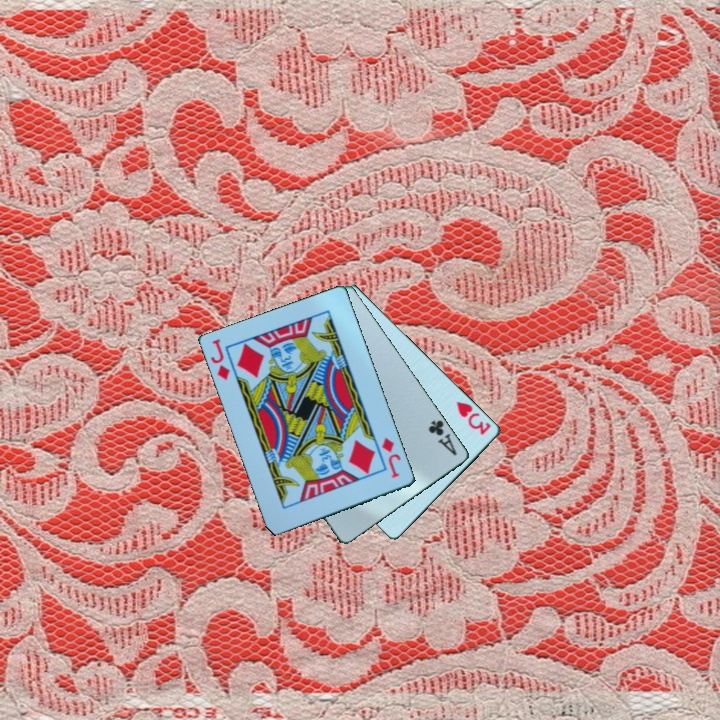3h: (453, 398, 494, 438)
Ac: (425, 416, 460, 459)
Jd: (207, 335, 234, 383), (379, 434, 404, 481)
